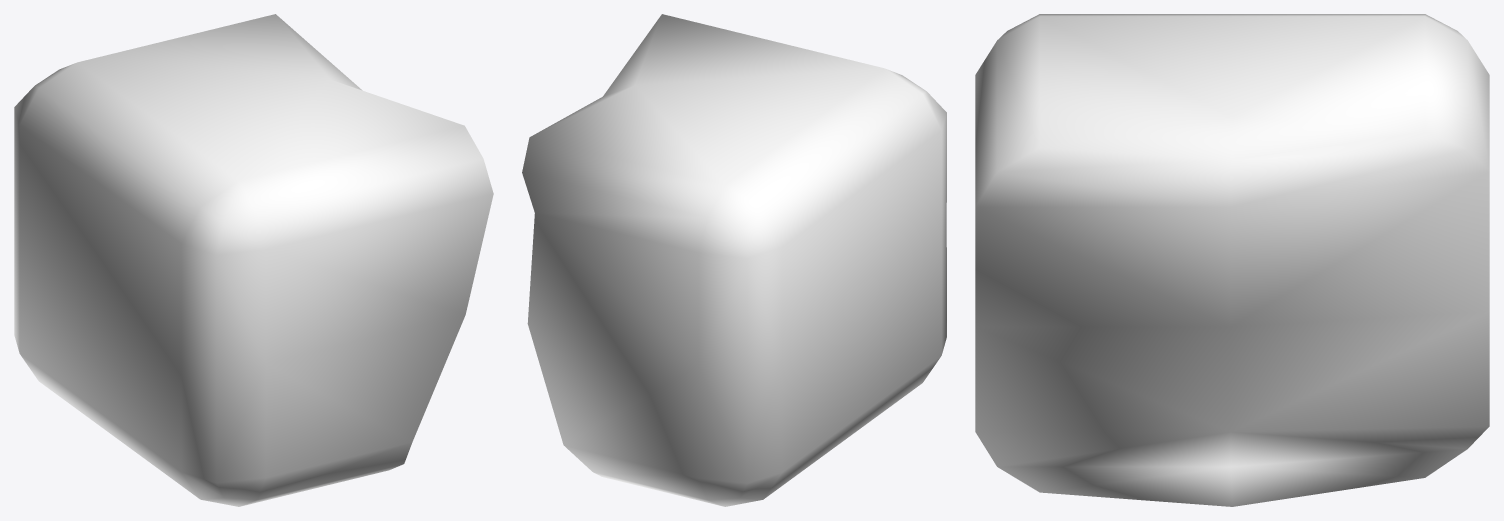
Rendered from WhiteBrickBreak1.obj.
3 renders of one model, left to right at view 1: azimuth 30°, elevation 25°; view 2: azimuth 150°, elevation 25°; view 3: azimuth 270°, elevation 25°, orthographic. The views are drawn at different scales.
Parts seen in each view (by area): view 1: OriginalBrick.006_Cube.010; view 2: OriginalBrick.006_Cube.010; view 3: OriginalBrick.006_Cube.010.
Boxes of the visible parts, bbox=[...] form: OriginalBrick.006_Cube.010: bbox=[14, 14, 493, 506]; OriginalBrick.006_Cube.010: bbox=[522, 14, 946, 506]; OriginalBrick.006_Cube.010: bbox=[975, 14, 1489, 506].
Bounding box in the file's own units: 0.3296 × 0.36 × 0.4316.
Materials: 2 (2 with a texture image).
